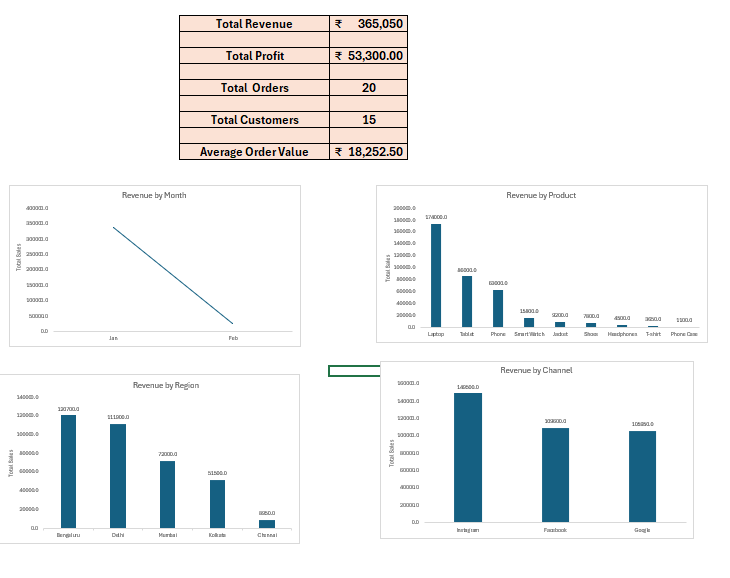

The dashboard page shown, as its layout file describes it:
{"tool":"powerbi","page":{"name":"Sales Dashboard","canvas":[1280,720],"ordinal":0},"visuals":[{"type":"cardVisual","fields":{"Data":["Sum(ecommerce_data csv.TotalSales)"]},"box":[28.8,50,183.8,118.8],"z":0},{"type":"cardVisual","fields":{"Data":["Sum(ecommerce_data csv.TotalProfit)"]},"box":[211.2,50,182.5,118.8],"z":1000},{"type":"cardVisual","fields":{"Data":["CountNonNull(ecommerce_data csv.OrderID)"]},"box":[408.8,50,167.5,118.8],"z":2000},{"type":"cardVisual","fields":{"Data":["Count(ecommerce_data csv.CustomerID)"]},"box":[587.5,50,198.8,118.8],"z":3000},{"type":"cardVisual","fields":{"Data":["Avg(ecommerce_data csv.TotalSales)"]},"box":[786.2,50,226.2,118.8],"z":4000},{"type":"lineChart","title":"Sales by Month","fields":{"Category":["ecommerce_data csv.OrderDate.Variation.Date Hierarchy.Month"],"Y":["Sum(ecommerce_data csv.TotalSales)"]},"box":[28.8,168.8,547.5,266.2],"z":5000},{"type":"columnChart","title":"Revenue by Channel","fields":{"Category":["ecommerce_data csv.Channel"],"Y":["Sum(ecommerce_data csv.TotalSales)"]},"box":[28.8,435,516.2,241.2],"z":6000},{"type":"columnChart","title":"Revenue by Product","fields":{"Y":["Sum(ecommerce_data csv.TotalSales)"],"Category":["ecommerce_data csv.Product"]},"box":[587.5,168.8,570,266.2],"z":7000},{"type":"columnChart","title":"Revenue by Region","fields":{"Y":["Sum(ecommerce_data csv.TotalSales)"],"Category":["ecommerce_data csv.Region"]},"box":[587.5,435,570,230],"z":8000},{"type":"textbox","box":[0,0,1280,50],"z":9000},{"type":"slicer","fields":{"Values":["ecommerce_data csv.OrderDate.Variation.Date Hierarchy.Month"]},"box":[1133.8,73.8,133.8,73.8],"z":10000},{"type":"slicer","fields":{"Values":["ecommerce_data csv.Region"]},"box":[1133.8,168.8,133.8,73.8],"z":10001}]}

Visuals, with their boxes on the page's 1280x720 design canvas (x1, y1, x2, y2). These are canvas units, not pixel positions in the 730x578 screenshot, which may show the page scaled, cropped or inside an application window:
cardVisual - Sum(ecommerce_data csv.TotalSales): (left=29, top=50, right=213, bottom=169)
cardVisual - Sum(ecommerce_data csv.TotalProfit): (left=211, top=50, right=394, bottom=169)
cardVisual - CountNonNull(ecommerce_data csv.OrderID): (left=409, top=50, right=576, bottom=169)
cardVisual - Count(ecommerce_data csv.CustomerID): (left=588, top=50, right=786, bottom=169)
cardVisual - Avg(ecommerce_data csv.TotalSales): (left=786, top=50, right=1012, bottom=169)
"Sales by Month" lineChart: (left=29, top=169, right=576, bottom=435)
"Revenue by Channel" columnChart: (left=29, top=435, right=545, bottom=676)
"Revenue by Product" columnChart: (left=588, top=169, right=1158, bottom=435)
"Revenue by Region" columnChart: (left=588, top=435, right=1158, bottom=665)
textbox: (left=0, top=0, right=1280, bottom=50)
slicer - ecommerce_data csv.OrderDate.Variation.Date Hierarchy.Month: (left=1134, top=74, right=1268, bottom=148)
slicer - ecommerce_data csv.Region: (left=1134, top=169, right=1268, bottom=243)
